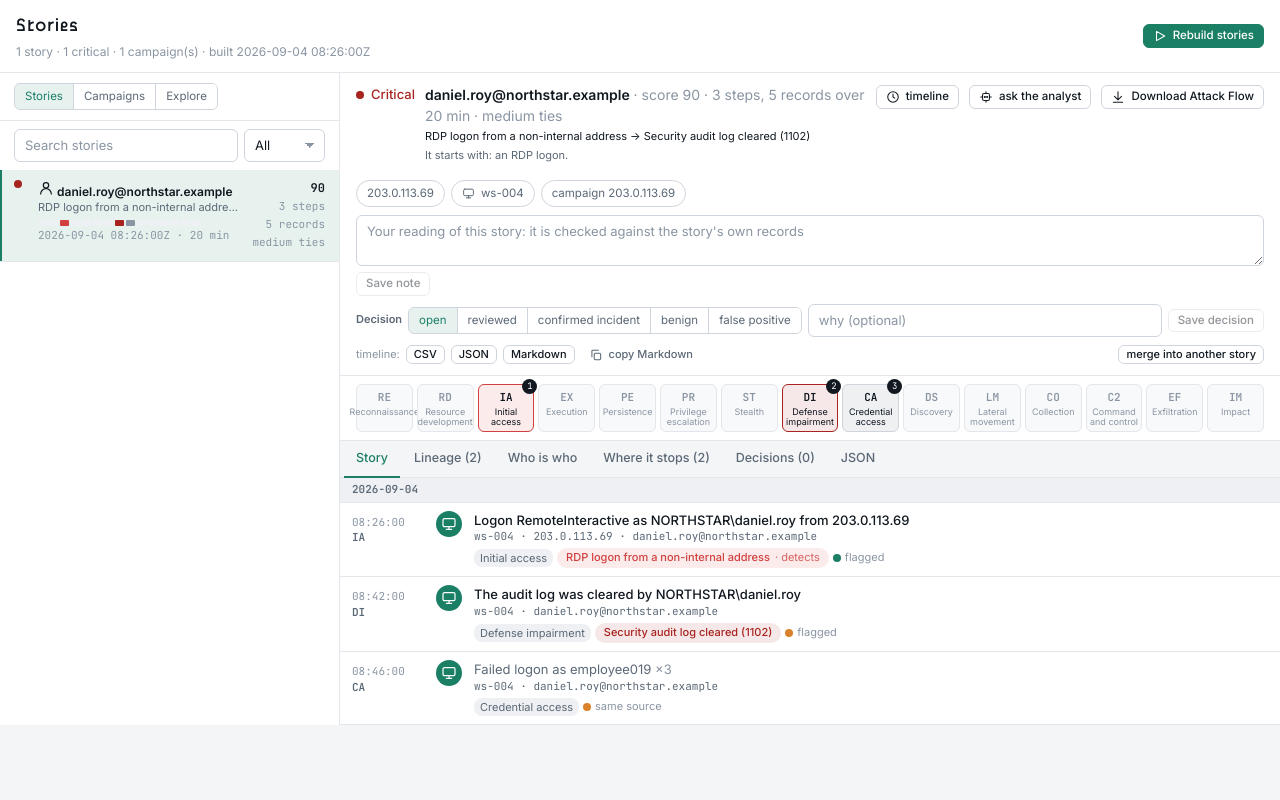
Scenario: the Stories page › shows who is who, where the story stops, and checks a note against the story’s records
Expected: the button with aria-label "Story daniel.roy@northstar.example" is shown, [0,170,339,262]
Click the button "Who is who" at coordinates (542, 460), box [496,442,589,478]
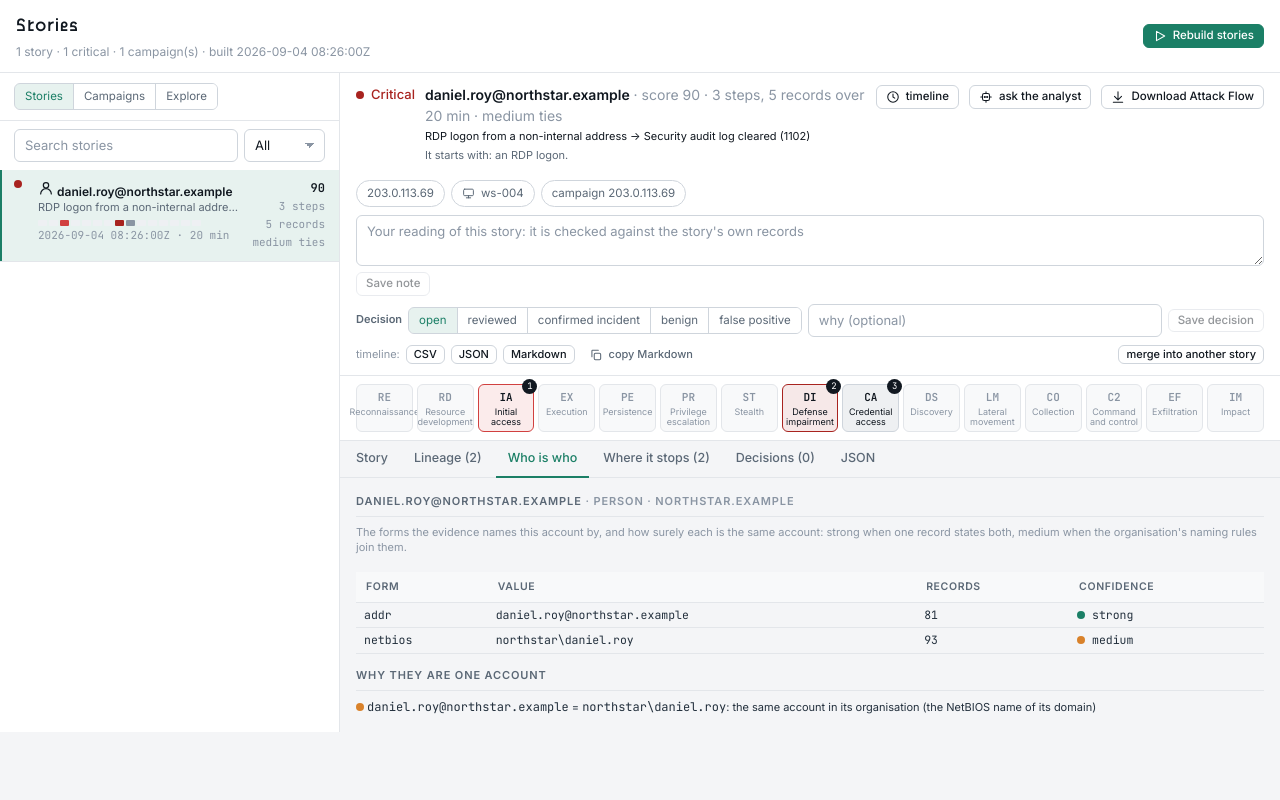
Expected: the text "the same account in its organisation (the NetBIOS name of its domain)" is shown, [732,700,1096,714]
Click the button "Where it stops (2)" at coordinates (656, 460), box [591,442,722,478]
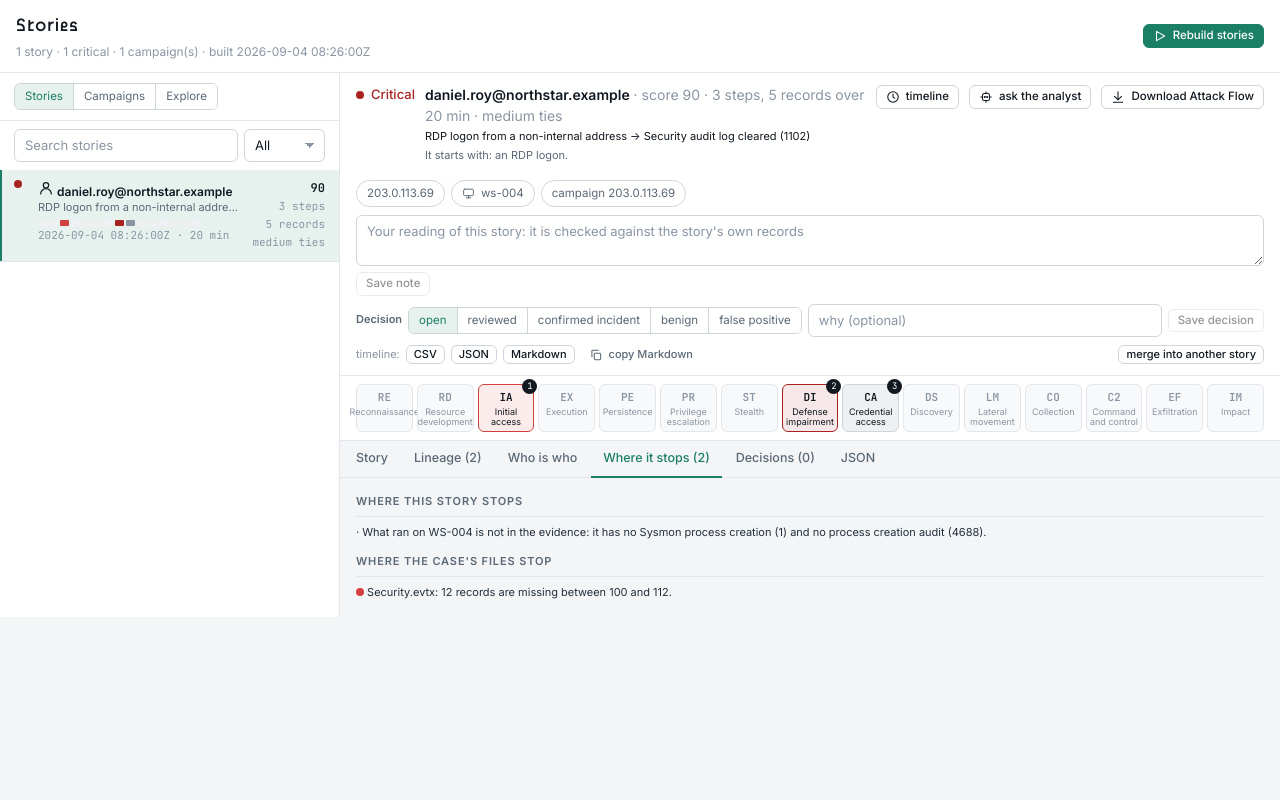
Expected: the text "What ran on WS-004 is not in the evidence" is shown, [362,524,986,538]
Expected: the text "Security.evtx: 12 records are missing between 100 and 112." is shown, [356,585,672,599]
# a note naming an address the records do not hold is unsupported
Replace the text in the text box named "Story note" with "The attacker came from 203.0.113.69 and 198.51.100.77." at coordinates (810, 240), box [356,214,1264,266]
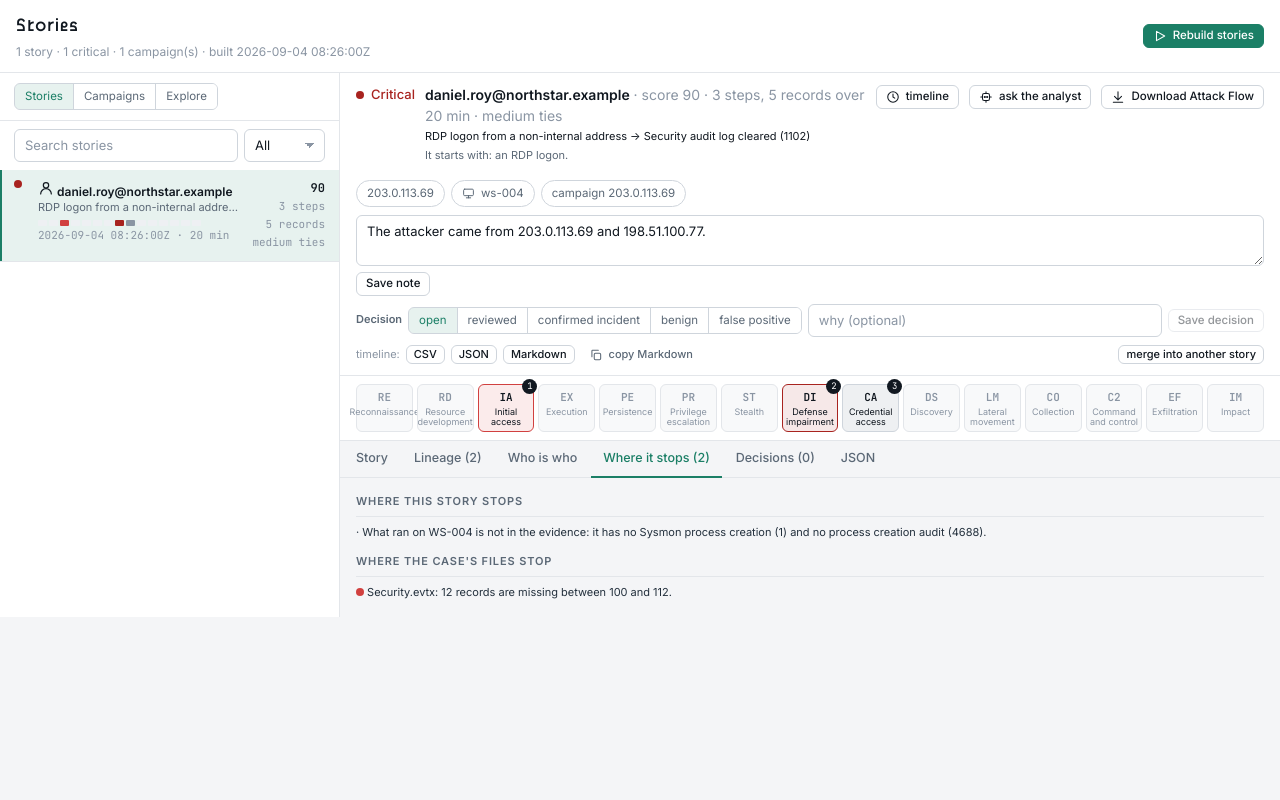
Click the button "Save note" at coordinates (393, 284), box [356,272,430,296]
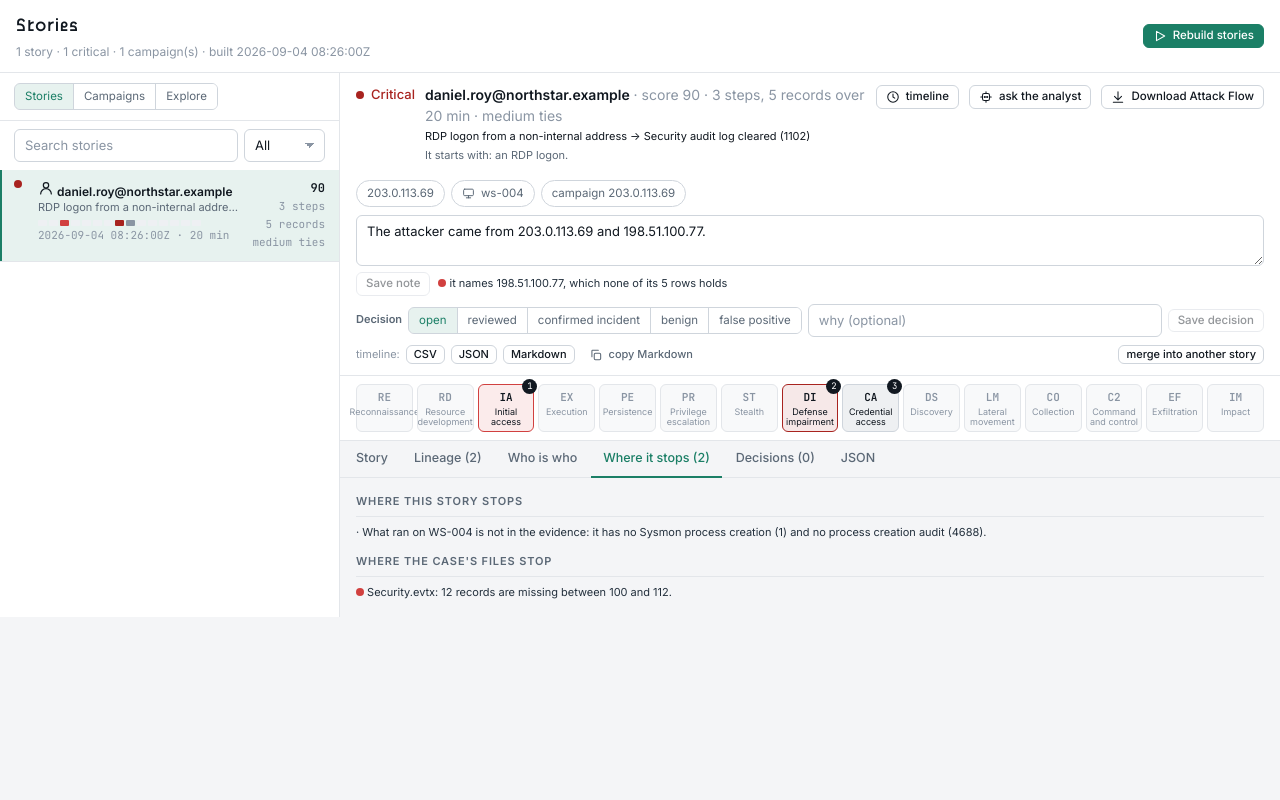
Expected: the text "it names 198.51.100.77, which none of its 5 rows holds" is shown, [438,276,727,292]
